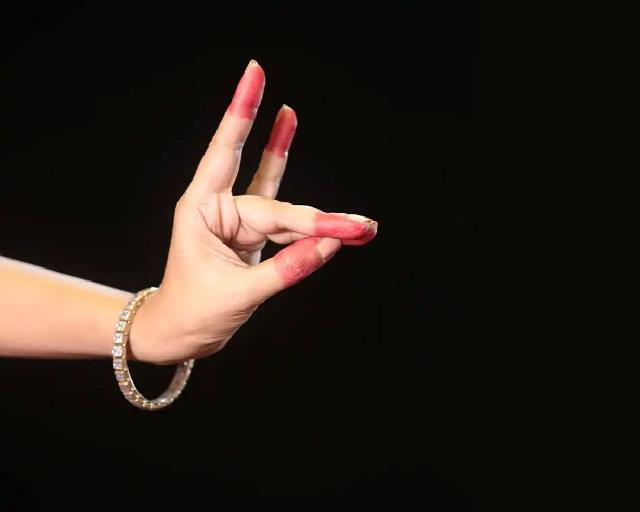sinhamukh: (0, 65, 373, 408)
